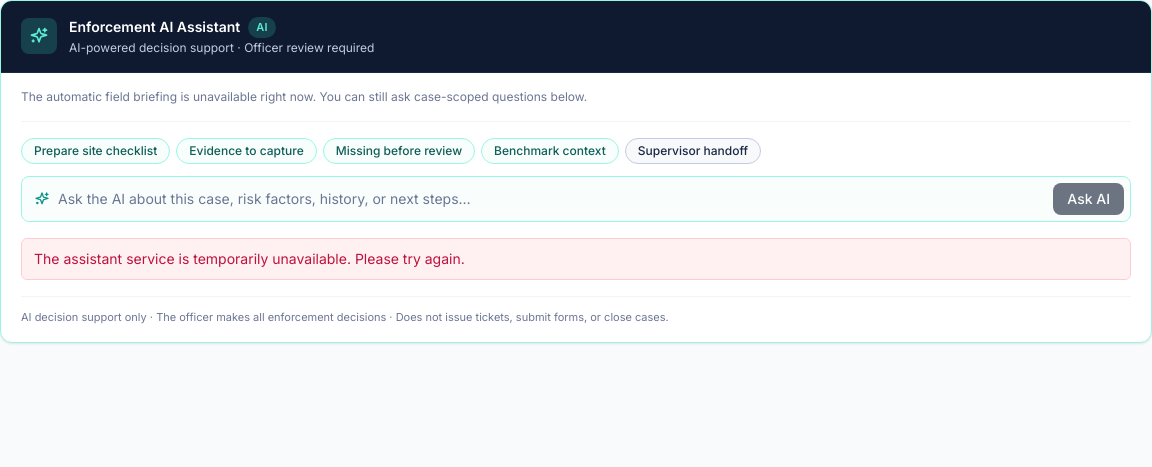
Scenario: OfficerCaseAssistant error handling › keeps manual questions available when the automatic briefing fails
Expected: the text "automatic field briefing is unavailable right now" is shown, [21, 88, 587, 104]
Expected: the button "Prepare site checklist" is enabled, [21, 138, 170, 164]
And asking actually works.
Replace the text in the field with placeholder "Ask the AI about this case, risk factors, history, or next steps…" with "What should I verify?" at [552, 198], box [58, 182, 1045, 214]
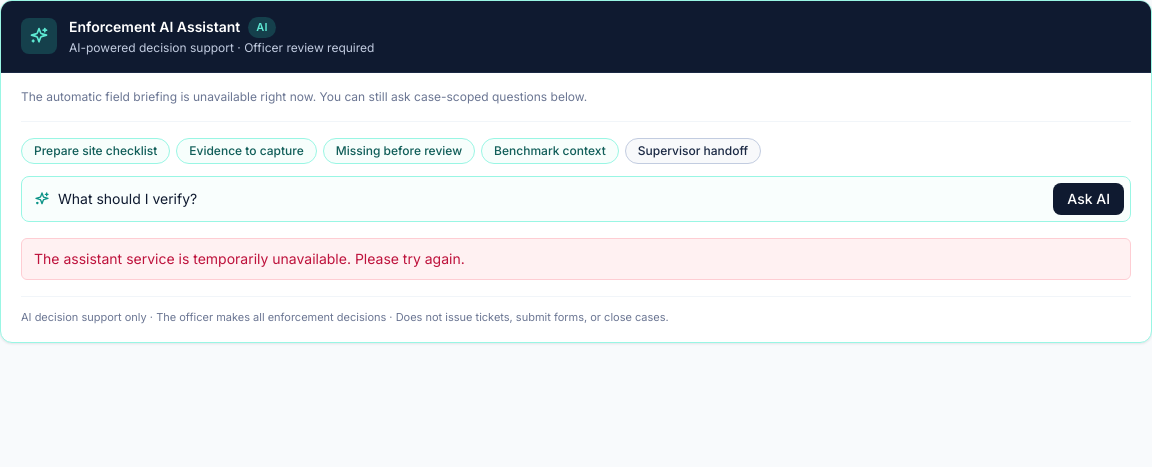
Click the button "Ask AI".
click(1089, 198)  # box [1053, 182, 1124, 214]
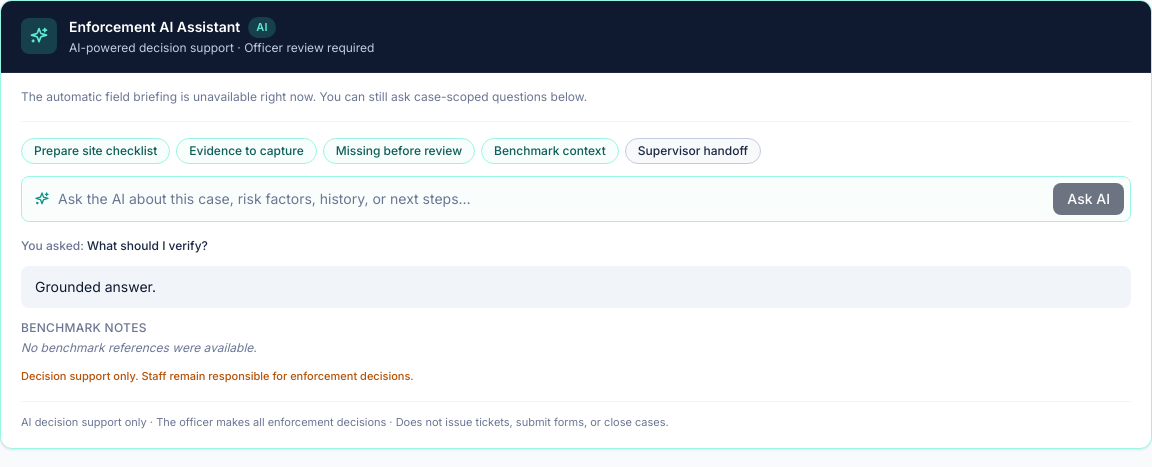
Expected: the text "Grounded answer." is shown, [35, 278, 156, 294]
